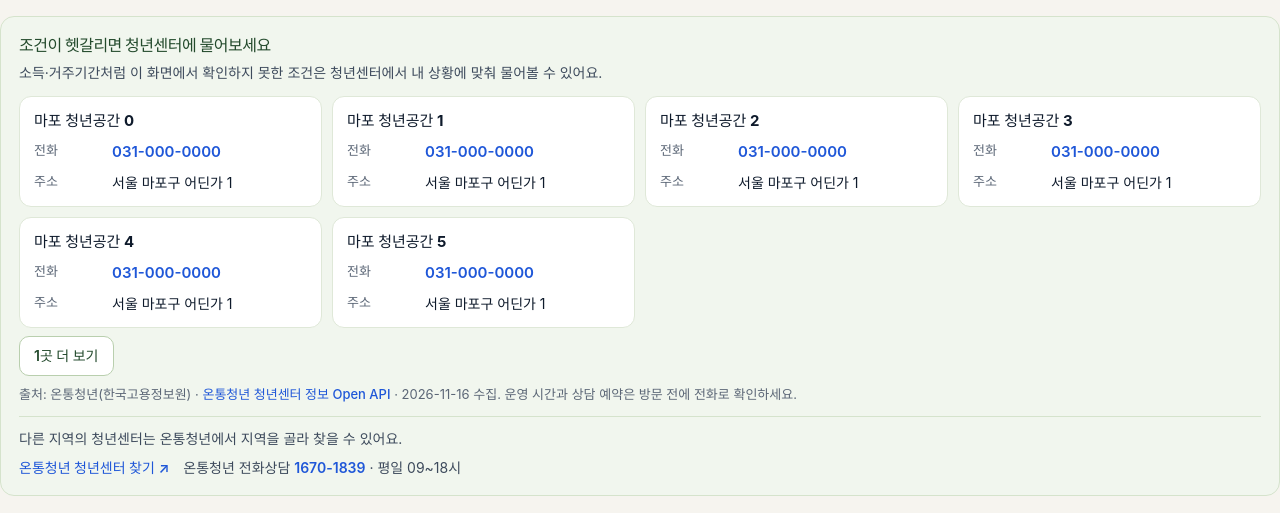
Test: nationwide list from the 온통청년 Open API › shows six at first and the rest on request
This screenshot has width=1280, height=513.
Expected: the text "마포 청년공간 0" is shown 6 times, [34,111,134,130]; [347,111,443,130]; [660,111,759,130]; [973,111,1073,130]; [34,232,134,251]; [347,232,446,251]
Click the button "1곳 더 보기" at (66, 356), box [19,336,114,376]
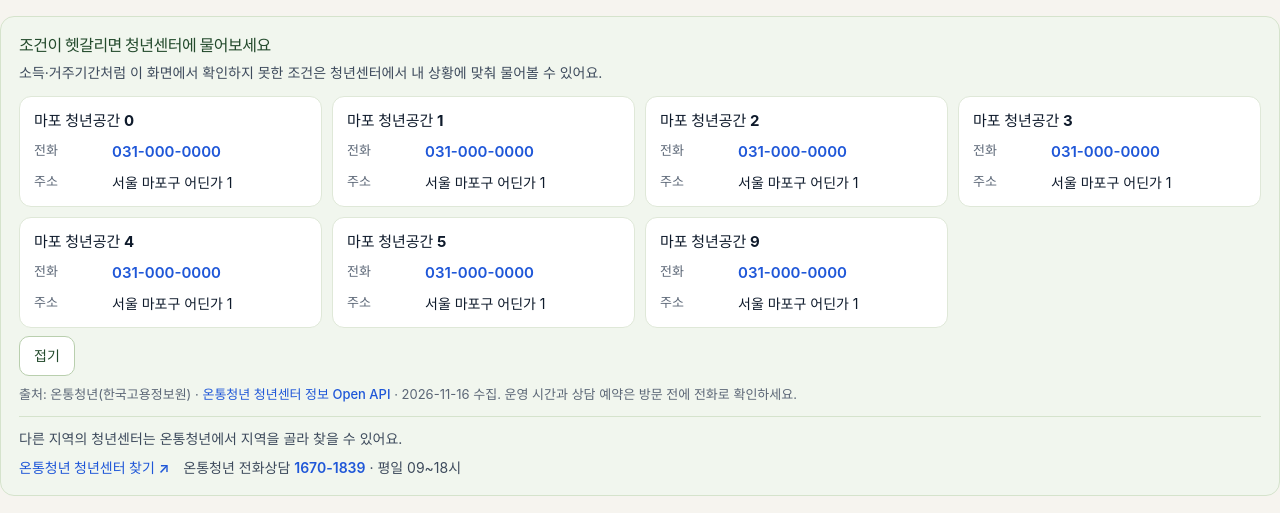
Expected: the text "마포 청년공간 0" is shown 7 times
Expected: the button "접기" is expanded, [19,336,75,376]
